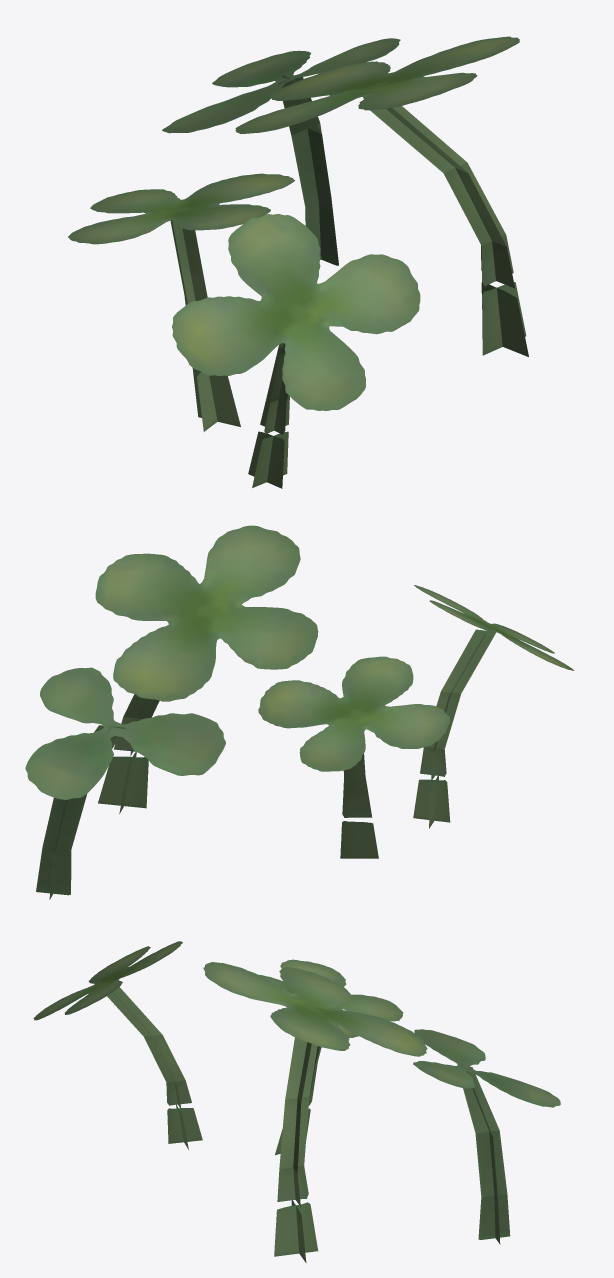
File: pref_sm_beach_techclover02b_lv2.fbx
3 renders of one model, top to bottom at view 1: azimuth 30°, elevation 25°; view 2: azimuth 150°, elevation 25°; view 3: azimuth 270°, elevation 25°, orthographic. The views are drawn at different scales.
Parts seen in each view (by area): view 1: pref_sm_beach_techclover02b_lv2; view 2: pref_sm_beach_techclover02b_lv2; view 3: pref_sm_beach_techclover02b_lv2.
Part boxes in pixels (bbox=[...]): pref_sm_beach_techclover02b_lv2: bbox=[68, 36, 528, 488]; pref_sm_beach_techclover02b_lv2: bbox=[25, 525, 573, 899]; pref_sm_beach_techclover02b_lv2: bbox=[33, 941, 560, 1262].
Size of the model in its own units: 1.06 by 0.6378 by 1.36.
